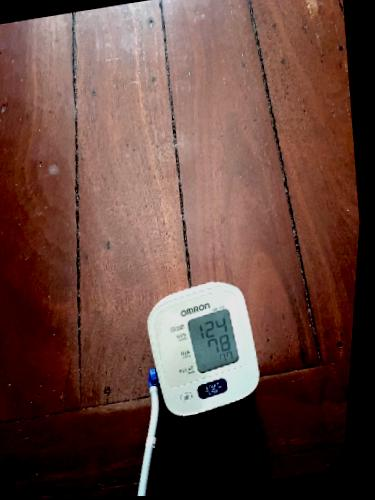bpm: (184, 306, 241, 376)
